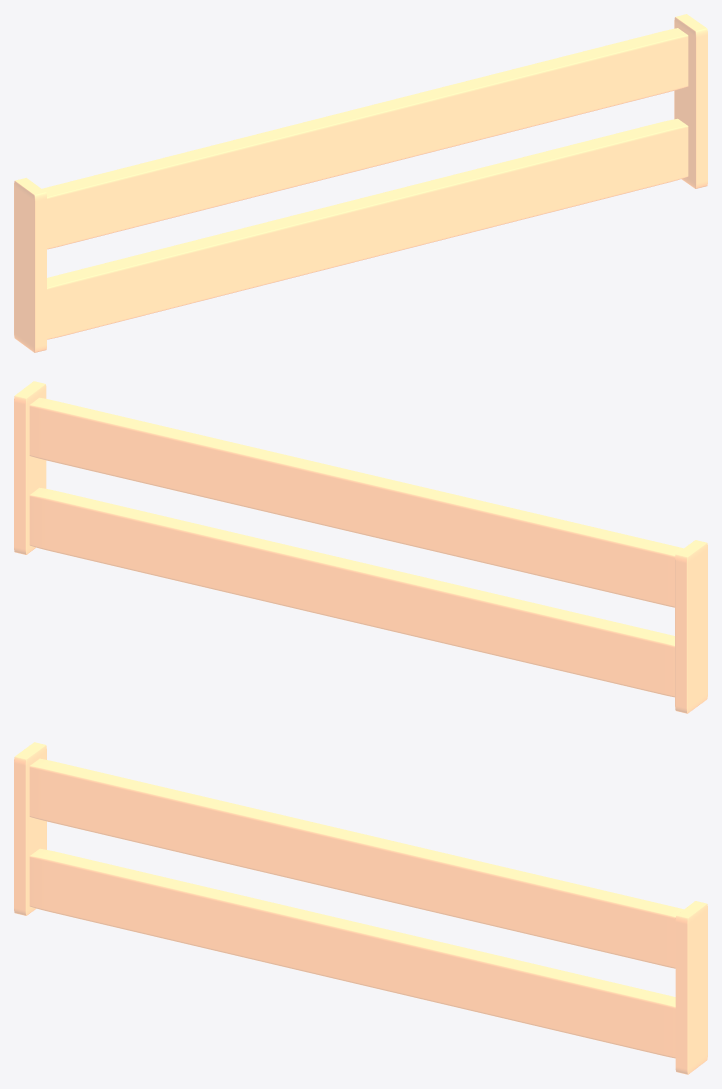
File: fenceWood.glb
The picture shows the model from 3 angles, top to bottom: view 1: azimuth 30°, elevation 25°; view 2: azimuth 150°, elevation 25°; view 3: azimuth 330°, elevation 25°; orthographic projection.
Visible parts, largest first — view 1: Cube.002, Cube.003, Cube.001, Cube; view 2: Cube.002, Cube.003, Cube.001, Cube; view 3: Cube.002, Cube.003, Cube, Cube.001.
Part boxes in pixels (x1,y1,x2,y2): Cube.002: [42, 28, 688, 249]; Cube.003: [47, 118, 688, 339]; Cube.001: [14, 178, 46, 352]; Cube: [674, 14, 707, 188]; Cube.002: [29, 397, 683, 607]; Cube.003: [29, 487, 674, 697]; Cube.001: [675, 540, 707, 713]; Cube: [14, 381, 46, 554]; Cube.002: [29, 758, 683, 968]; Cube.003: [29, 848, 675, 1058]; Cube: [675, 901, 707, 1074]; Cube.001: [14, 742, 46, 915].
Size of the model in its own units: 4.08 by 0.9102 by 0.2508.
